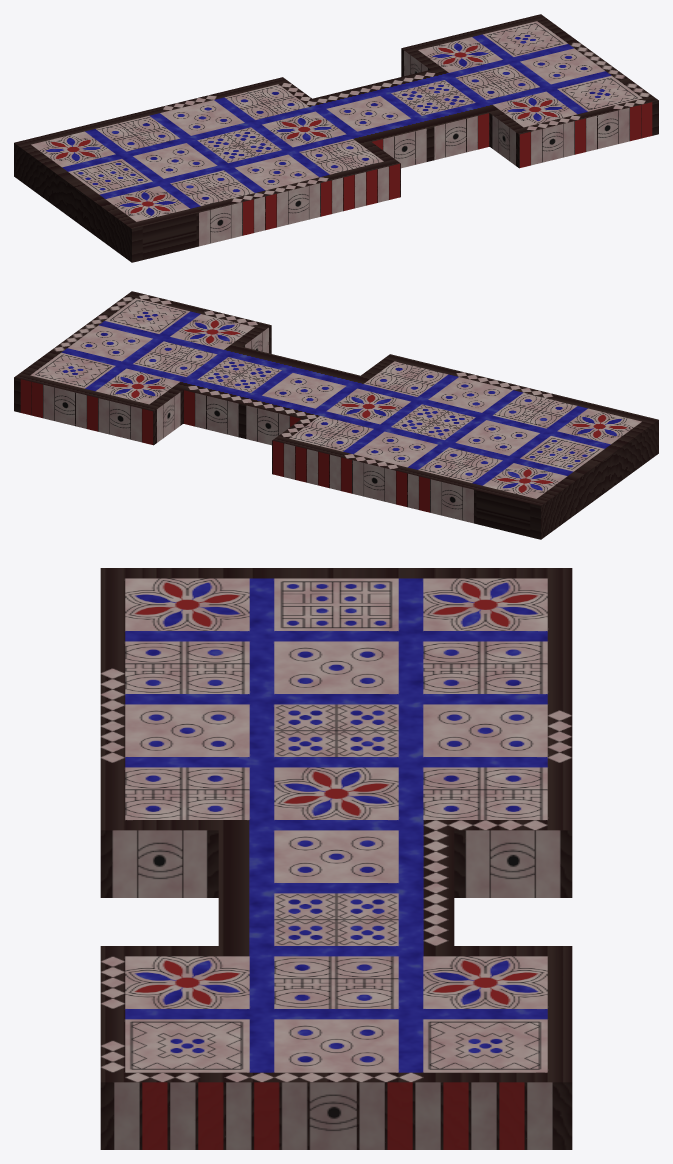
File: Board.glb
3 renders of one model, top to bottom at view 1: azimuth 30°, elevation 25°; view 2: azimuth 150°, elevation 25°; view 3: azimuth 270°, elevation 25°, orthographic. The views are drawn at different scales.
Parts seen in each view (by area): view 1: Board; view 2: Board; view 3: Board.
Part boxes in pixels (box(x1,y1,x2,y2)): Board: box(14, 14, 658, 262); Board: box(14, 291, 658, 539); Board: box(100, 568, 572, 1149).
Bounding box in the file's own units: 9.8 × 0.6 × 3.8.
1 material, 1 textured.
